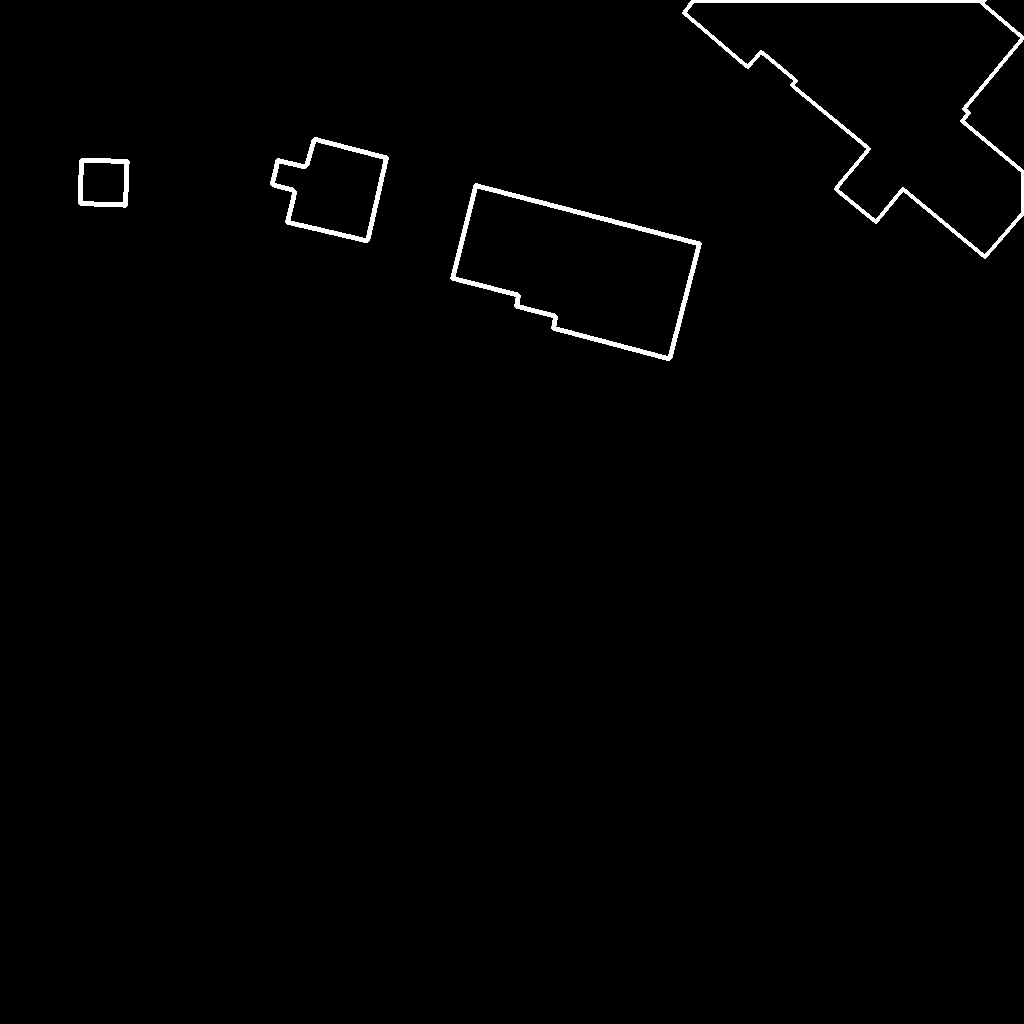building: (684, 0, 1024, 258), (452, 185, 701, 360), (272, 139, 388, 242), (80, 160, 128, 206)
